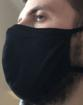with_mask: (2, 1, 83, 105)
